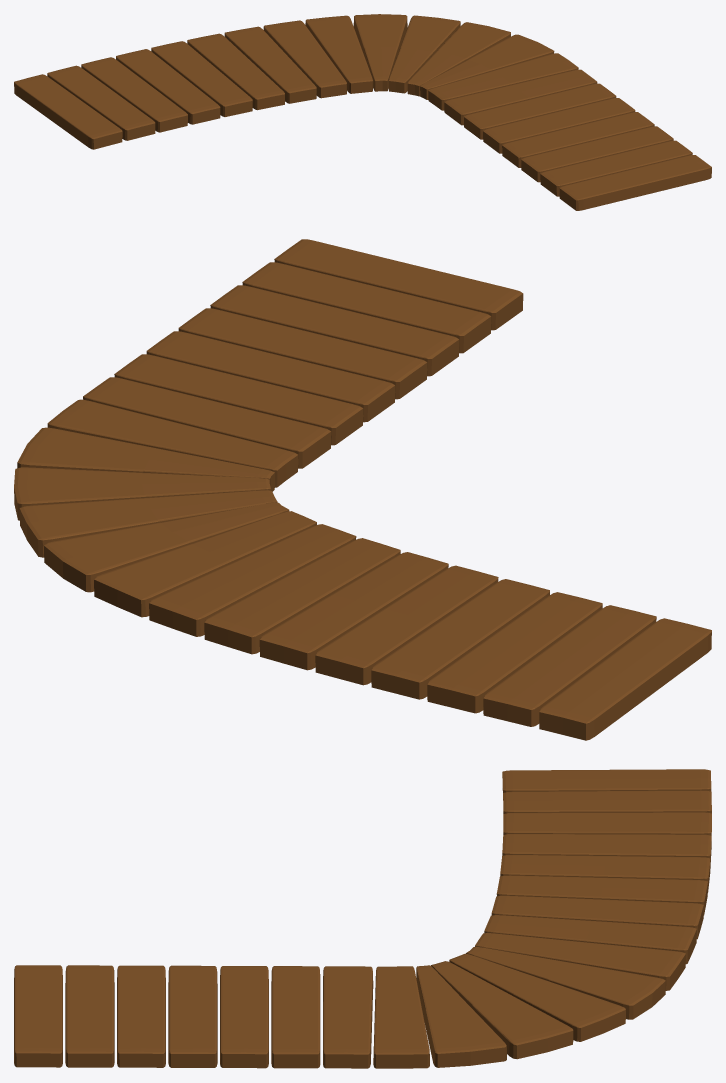
Rendered from boardwalk_curved.glb.
The picture shows the model from 3 angles, top to bottom: view 1: azimuth 30°, elevation 25°; view 2: azimuth 150°, elevation 25°; view 3: azimuth 270°, elevation 25°; orthographic projection. The views are drawn at different scales.
Parts seen in each view (by area): view 1: Jetty.006; view 2: Jetty.006; view 3: Jetty.006.
Part boxes in pixels (x1=…): Jetty.006: x1=14, y1=14, x2=711, y2=210; Jetty.006: x1=14, y1=239, x2=711, y2=740; Jetty.006: x1=14, y1=769, x2=711, y2=1068.
Bounding box in the file's own units: 6.87 × 0.1916 × 7.12.
